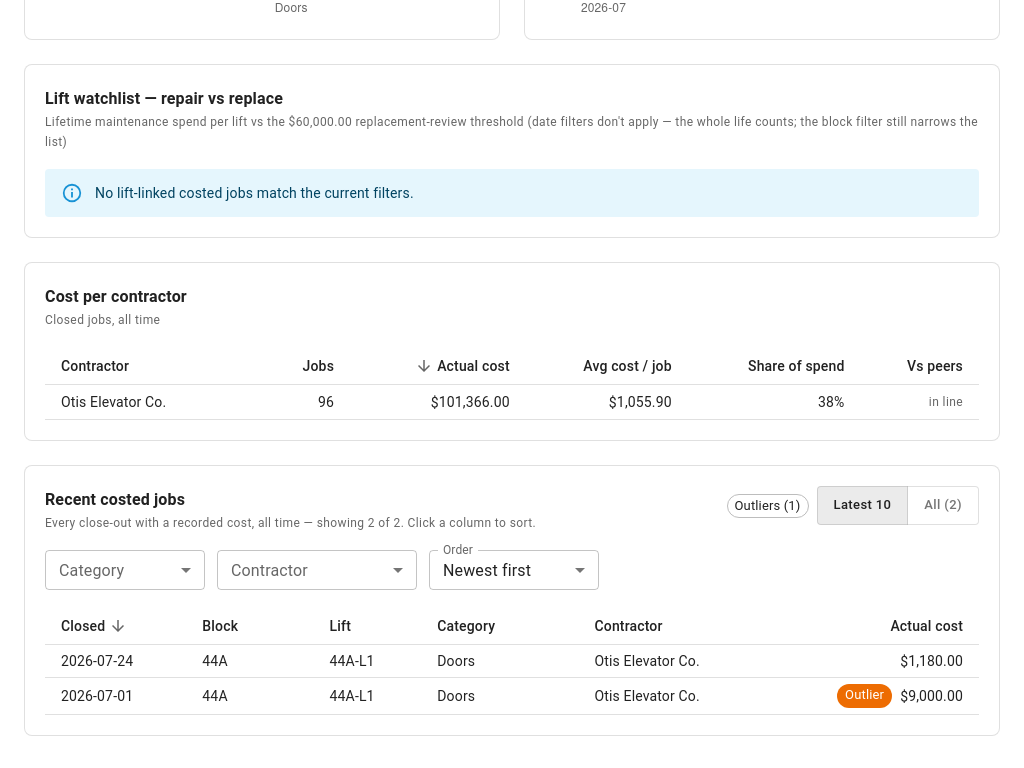
Test: AdminCostPage › the outlier filter narrows to jobs over twice their category average
(page scrolled)
Expected: the text "$1,180.00" is shown, x1=900 y1=650 x2=963 y2=670
What coordinates should you click on to do the following:
click the button "Outliers (1)"
I would click on:
 (768, 506)
Its box is x1=726 y1=494 x2=808 y2=518.
(page scrolled)
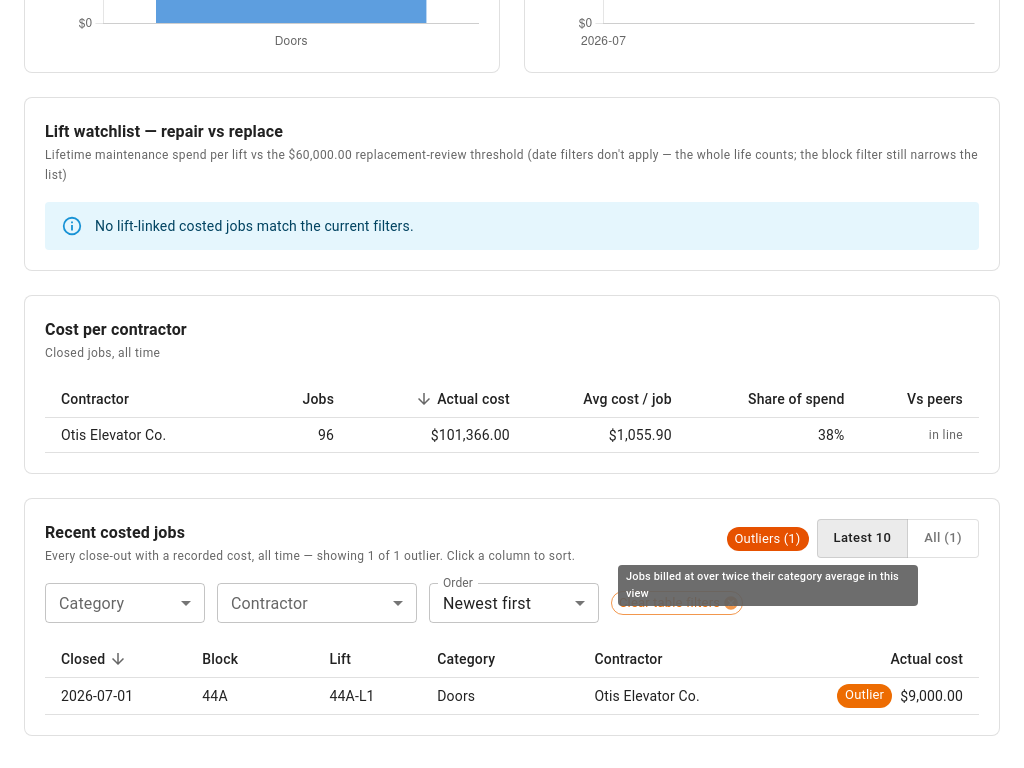
Expected: the text "$9,000.00" is shown, x1=900 y1=686 x2=963 y2=706
Now the text "$1,180.00" is gone
